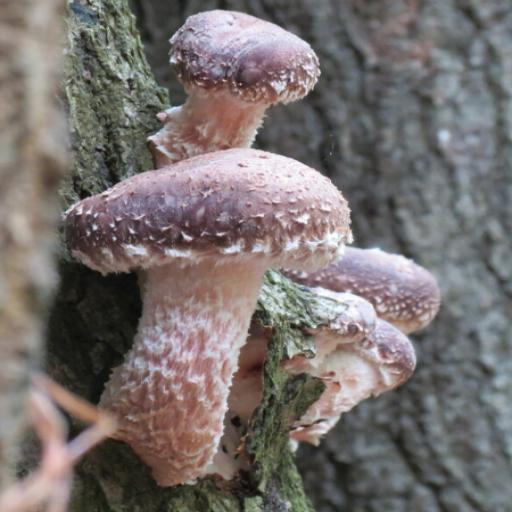Shiitake Mushroom: (35, 2, 450, 494)
